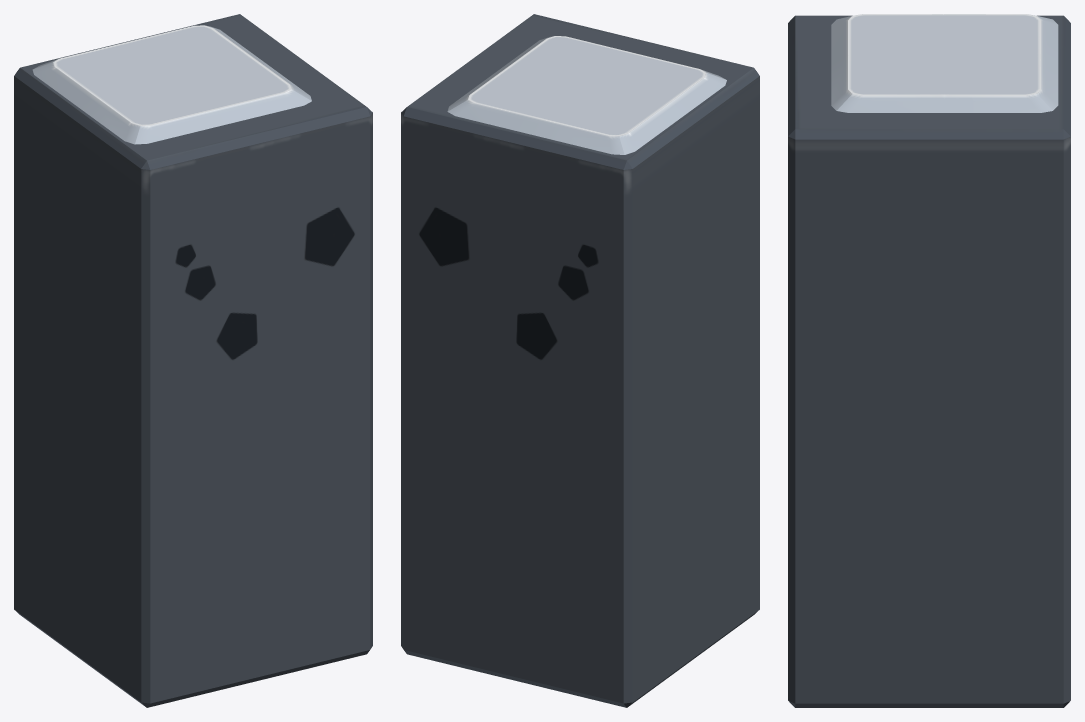
File: S5_InF_WallCorner_001.fbx
3 renders of one model, left to right at view 1: azimuth 30°, elevation 25°; view 2: azimuth 150°, elevation 25°; view 3: azimuth 270°, elevation 25°, orthographic. The views are drawn at different scales.
Parts seen in each view (by area): view 1: kakuninyouBlock; view 2: kakuninyouBlock; view 3: kakuninyouBlock.
Part boxes in pixels (x1,y1,x2,y2): kakuninyouBlock: (14,14,372,707); kakuninyouBlock: (401,14,759,707); kakuninyouBlock: (788,14,1070,707).
Size of the model in its own units: 0.8889 by 2.04 by 0.8889.
